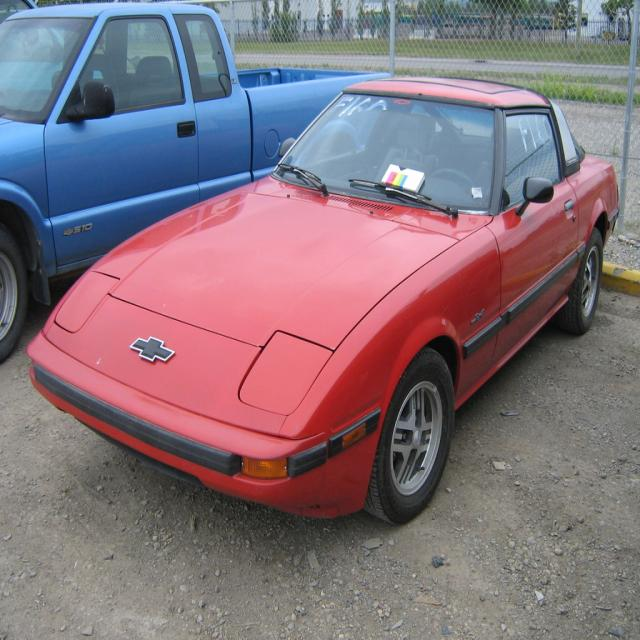car: (21, 66, 620, 529)
